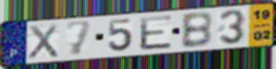3: (214, 8, 249, 46)
5: (107, 17, 135, 53)
7: (64, 19, 93, 58)
B: (180, 11, 214, 50)
E: (138, 13, 174, 52)
X: (26, 23, 60, 61)
